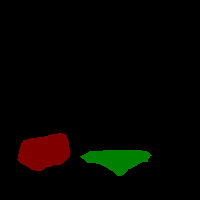mutande: (17, 133, 70, 171), (80, 150, 152, 176)
